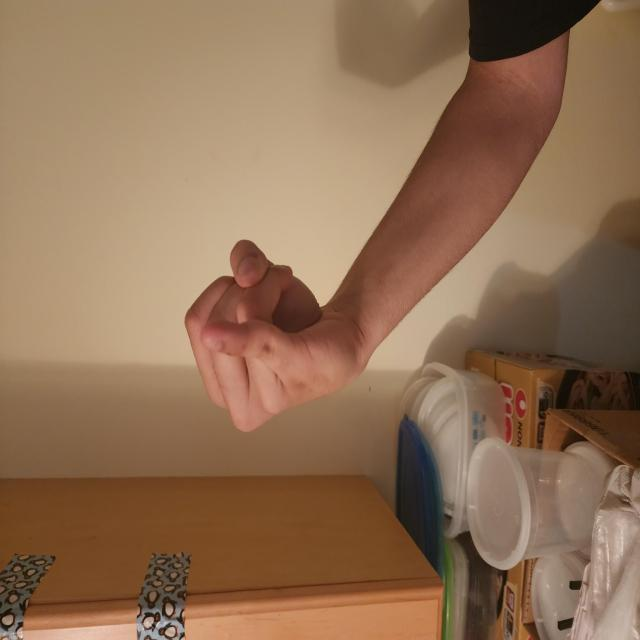I: (150, 234, 309, 498)
